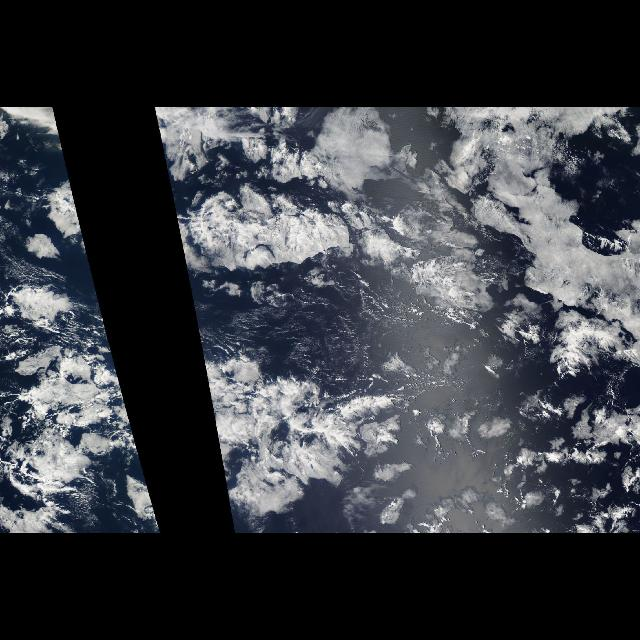Sugar: (226, 283, 454, 393)
